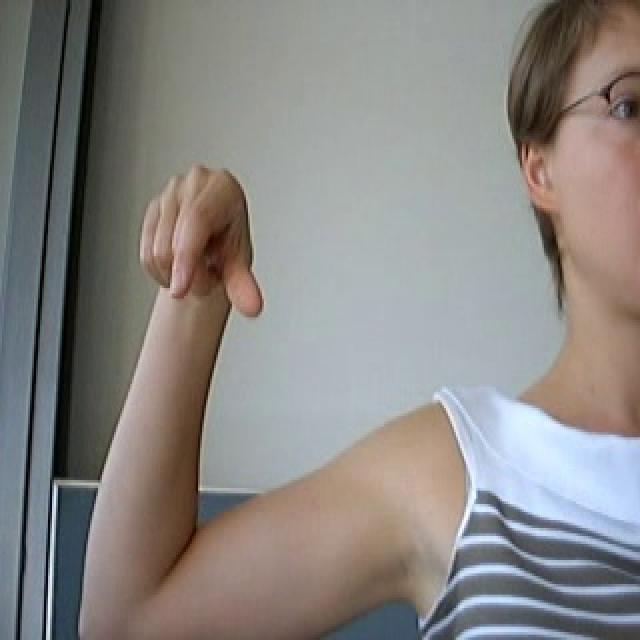Q: (131, 153, 281, 331)
